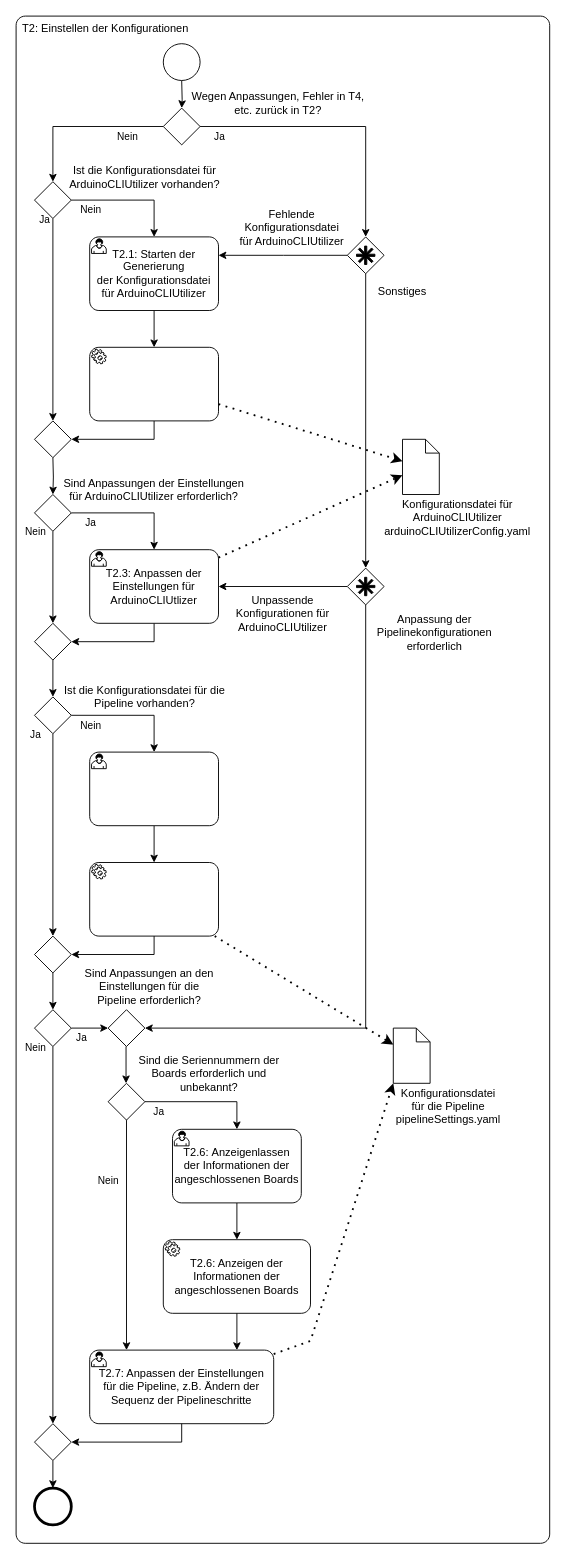
Some shapes in this 566 by 1559 pixel diagram are drawn without their labels. The centre of each missing label's shape, as x and y in pixels:
"T2.2: Generierung der Konfigurationsdatei für ArduinoCLIUtilizer" belongs at point (153, 383).
"T2.4 : Starten der Generierung der Konfigurationsdatei für die Pipeline" belongs at point (153, 788).
"T2.5 : Generierung der Konfigurationsdatei für die Pipeline" belongs at point (153, 899).
